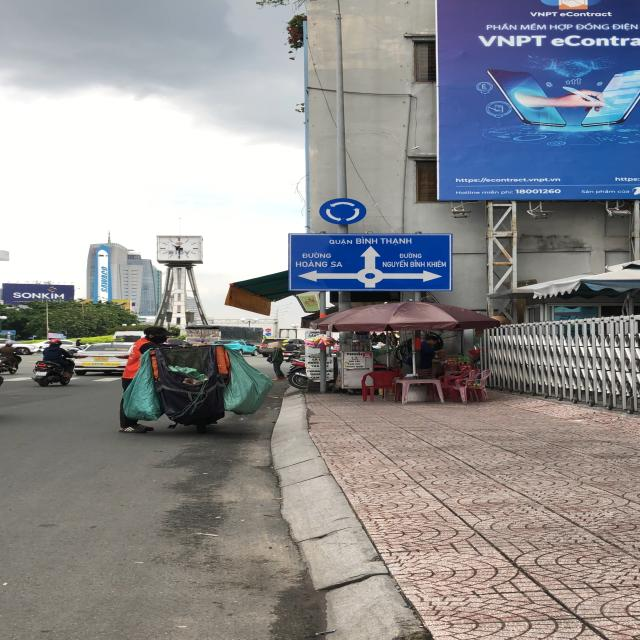Bien bao noi giao nhau chay theo vong xuyen: (318, 196, 372, 226)
